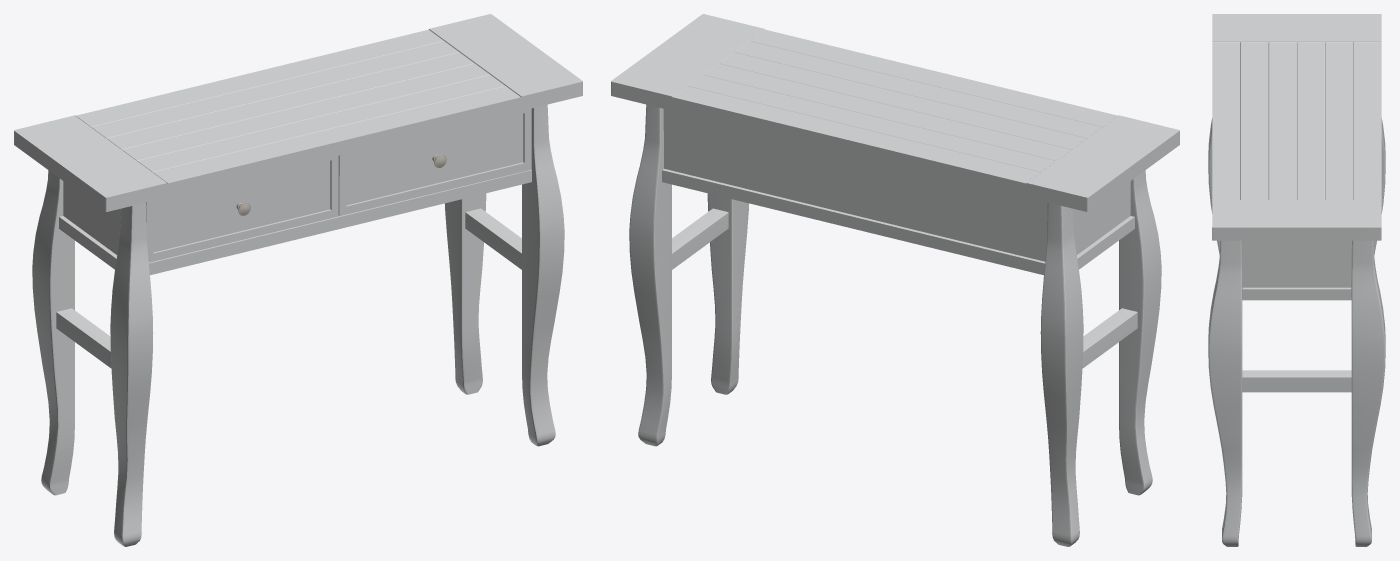
Rendered from abo-B07MJL3LWD.glb.
The picture shows the model from 3 angles, left to right: view 1: azimuth 30°, elevation 25°; view 2: azimuth 150°, elevation 25°; view 3: azimuth 270°, elevation 25°; orthographic projection. The views are drawn at different scales.
Size of the model in its own units: 1.06 by 0.768 by 0.373.
1 material, 1 textured.
